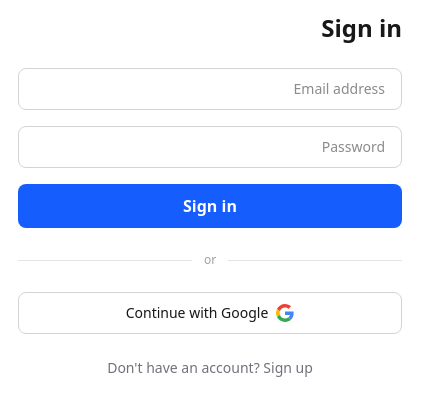
AuthForm › shows "check your email" message after successful sign-up
Click the button "Don't have an account? Sign up" at point(210, 368), box [18, 358, 402, 378]
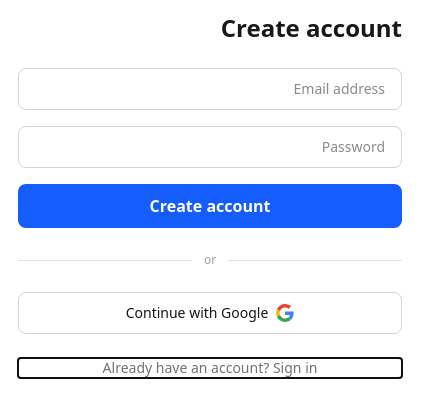
Type "new@example.com" into the field labelled "Email address" at point(210, 89), box [18, 68, 402, 110]
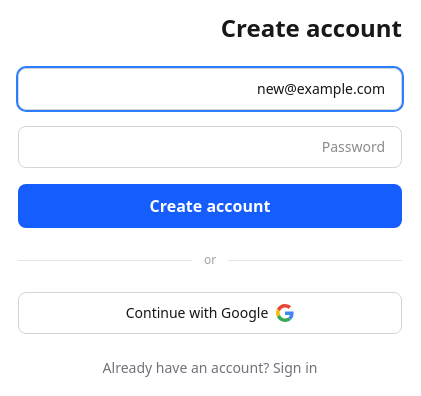
Type "newpassword123" into the password field labelled "Password" at point(210, 147), box [18, 126, 402, 168]
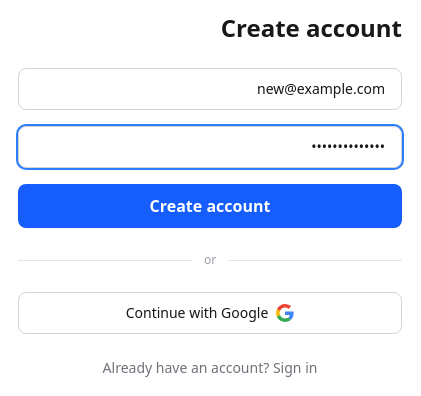
Click the button "Create account" at point(210, 206), box [18, 184, 402, 228]
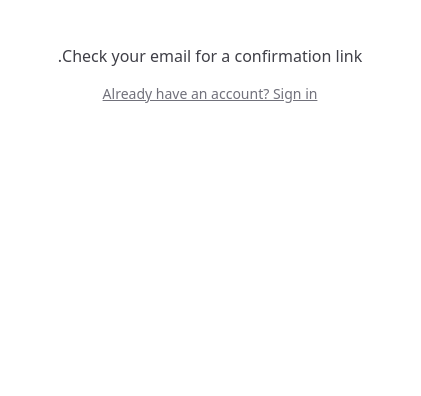
Check: the message shows "Check your email", box [58, 45, 362, 67]
